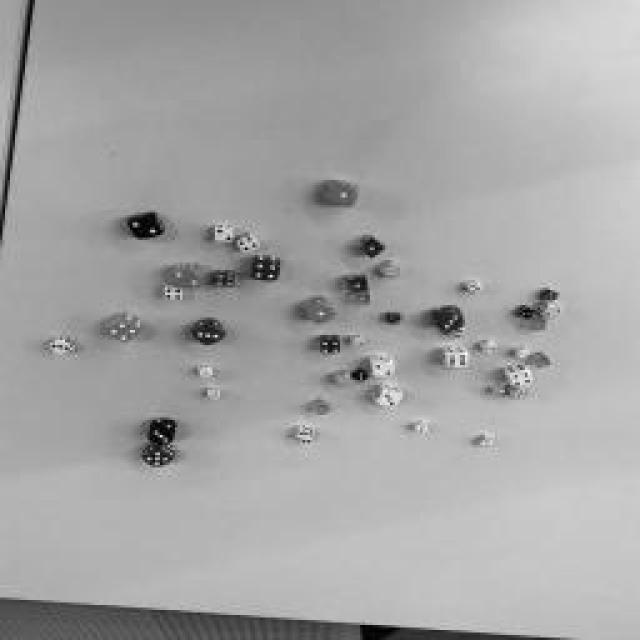dice_1: (330, 185, 358, 205), (309, 305, 336, 323), (360, 240, 382, 258), (349, 278, 369, 292), (199, 369, 211, 376)
dice_2: (129, 218, 161, 238), (174, 270, 201, 288), (374, 362, 394, 378), (215, 229, 233, 241), (542, 308, 562, 318), (480, 438, 495, 448), (518, 350, 530, 358), (390, 316, 400, 324), (352, 339, 362, 346)
dice_3: (195, 326, 225, 344), (150, 430, 175, 445), (438, 315, 462, 330), (380, 392, 400, 408), (50, 341, 72, 354), (512, 389, 528, 399), (535, 358, 550, 368), (315, 405, 330, 415), (338, 376, 352, 386), (356, 371, 369, 381), (533, 320, 545, 330), (482, 344, 498, 351), (522, 310, 536, 318), (208, 392, 220, 400), (418, 425, 428, 433)
dice_4: (252, 262, 280, 282), (109, 322, 139, 340), (236, 238, 259, 252), (512, 372, 532, 388), (321, 341, 341, 354), (215, 275, 235, 287), (165, 288, 183, 300), (382, 265, 400, 277)
dice_5: (145, 452, 173, 468), (545, 292, 560, 302), (355, 294, 370, 304)
dice_6: (448, 355, 468, 367), (298, 432, 318, 442), (469, 282, 481, 292), (451, 330, 464, 338), (494, 389, 506, 396)
